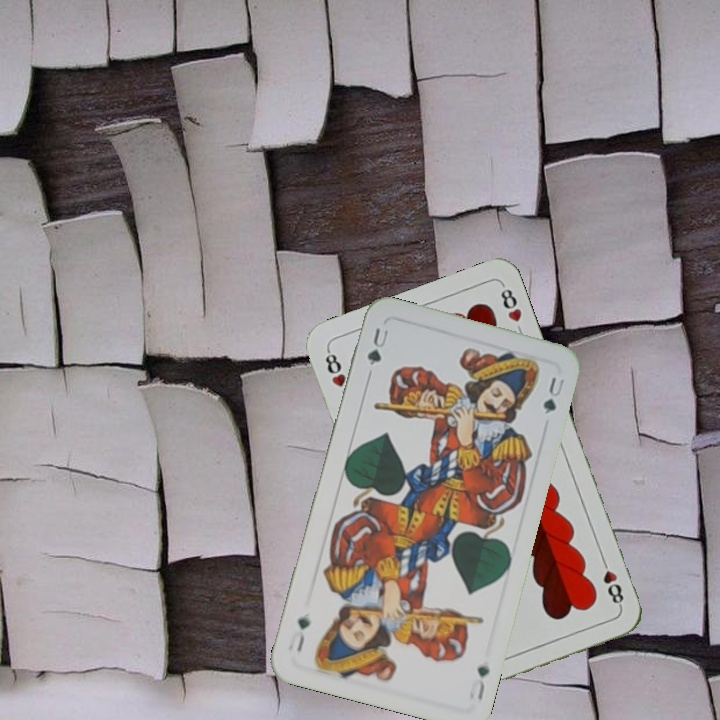GU: (363, 324, 391, 368), (471, 661, 492, 704)
H8: (597, 553, 627, 610), (321, 345, 349, 390)
